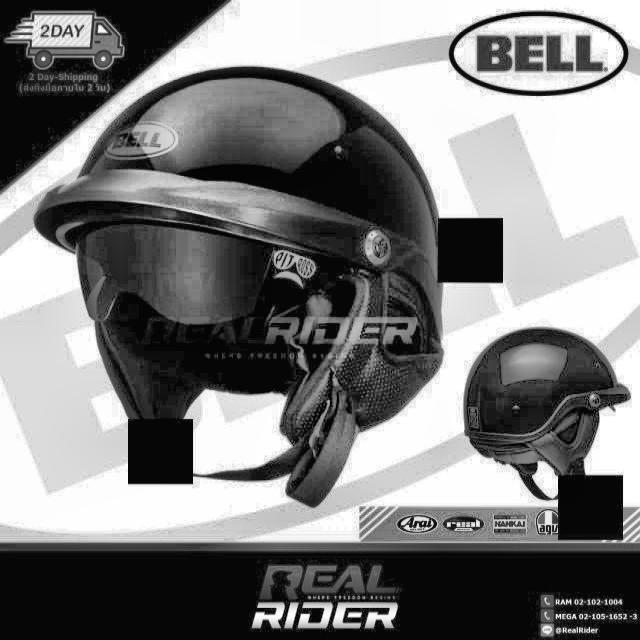Helmet: (40, 58, 480, 506), (460, 310, 638, 526)
